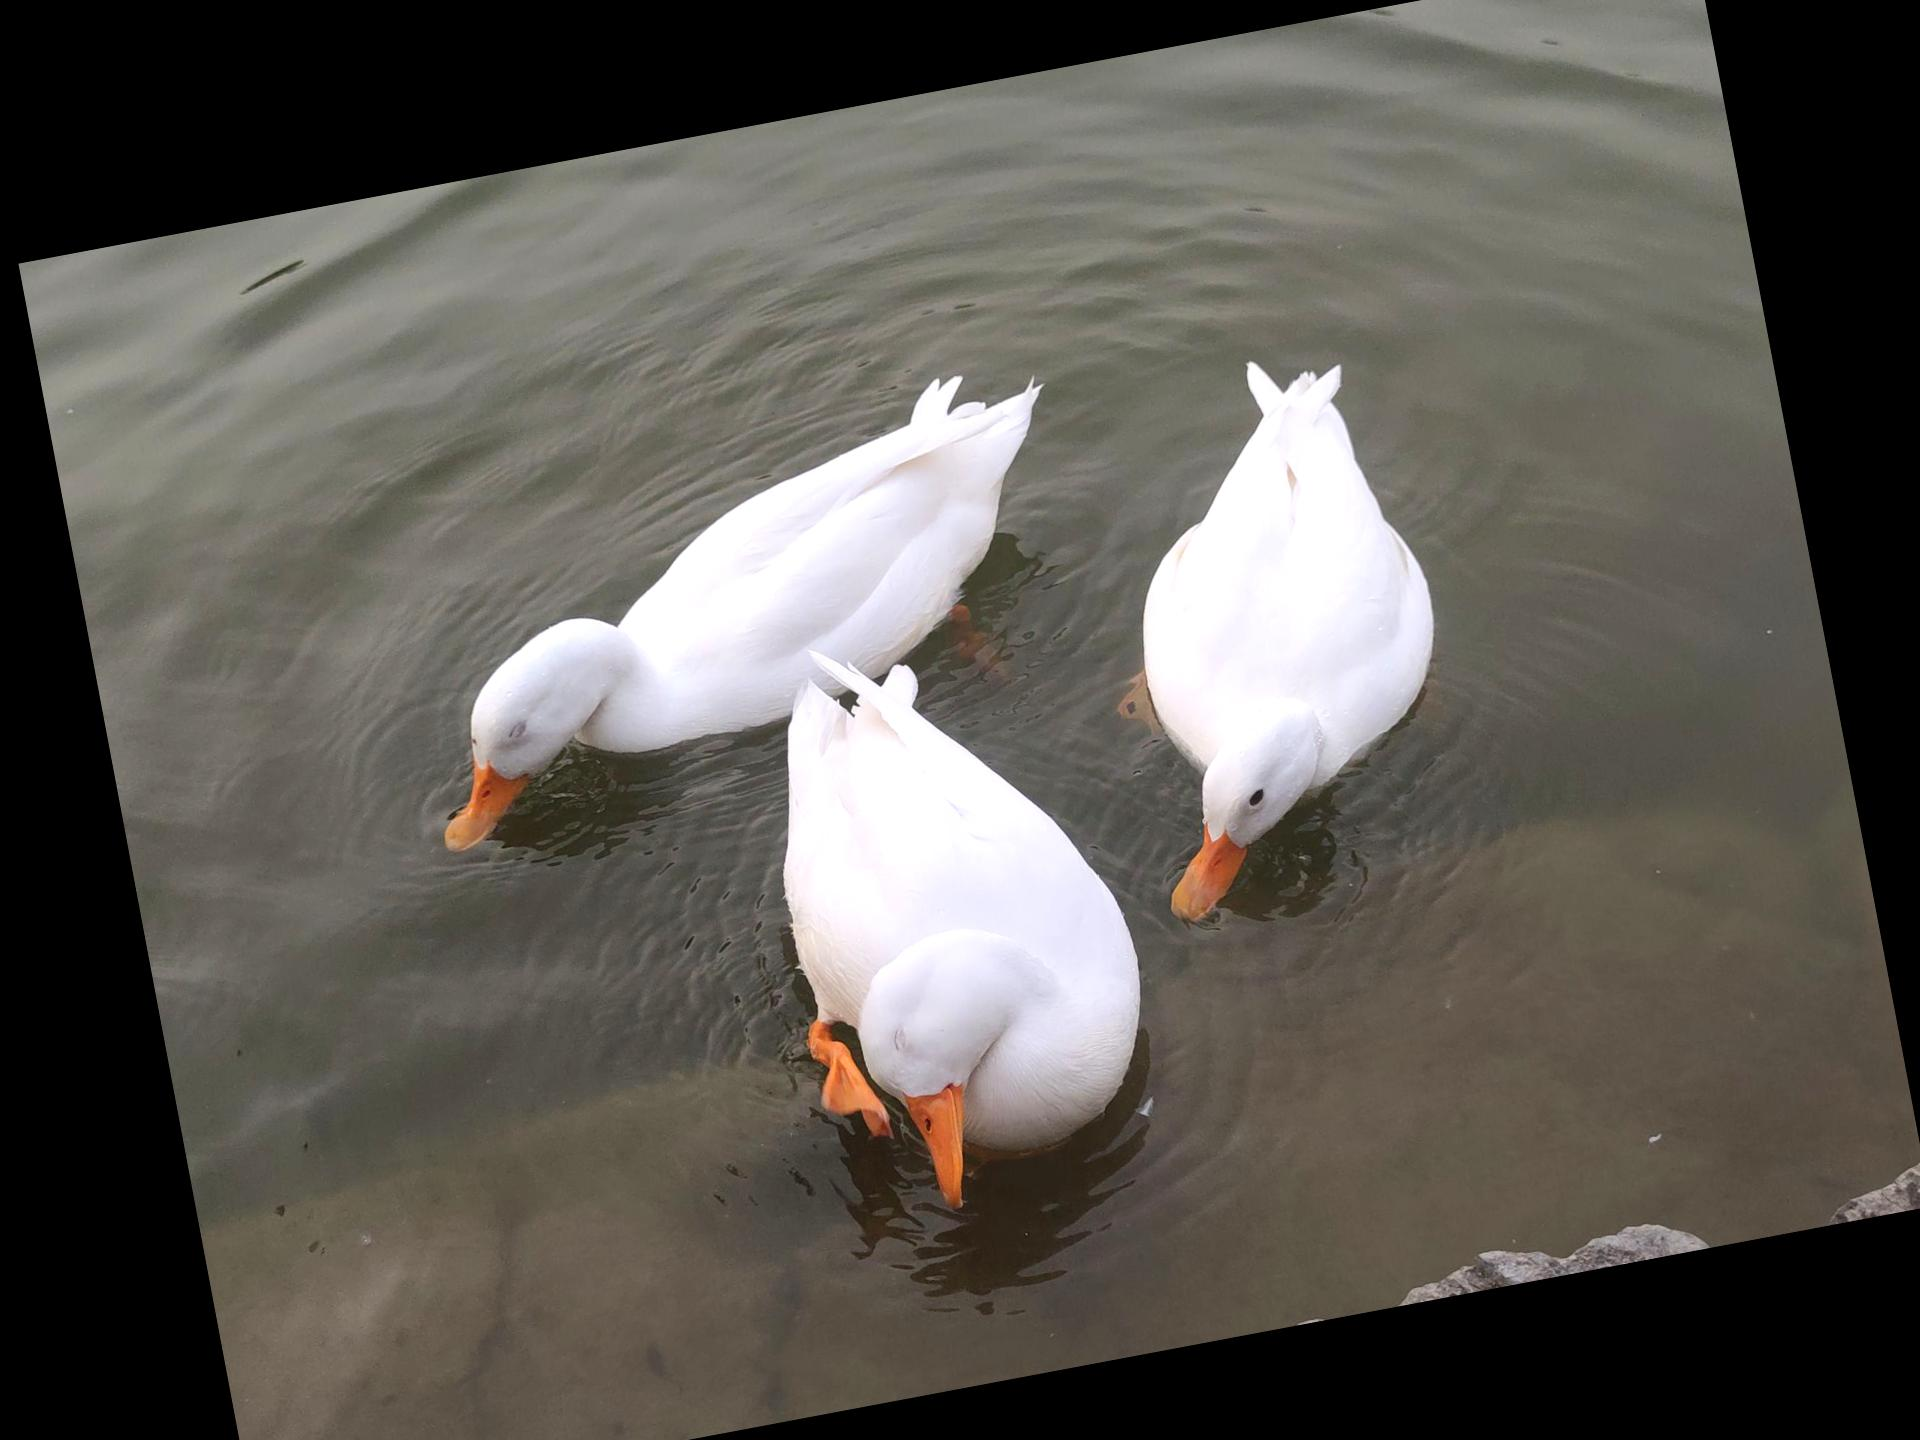duck: (363, 324, 1132, 871), (703, 573, 1200, 1230), (1061, 324, 1492, 939)
